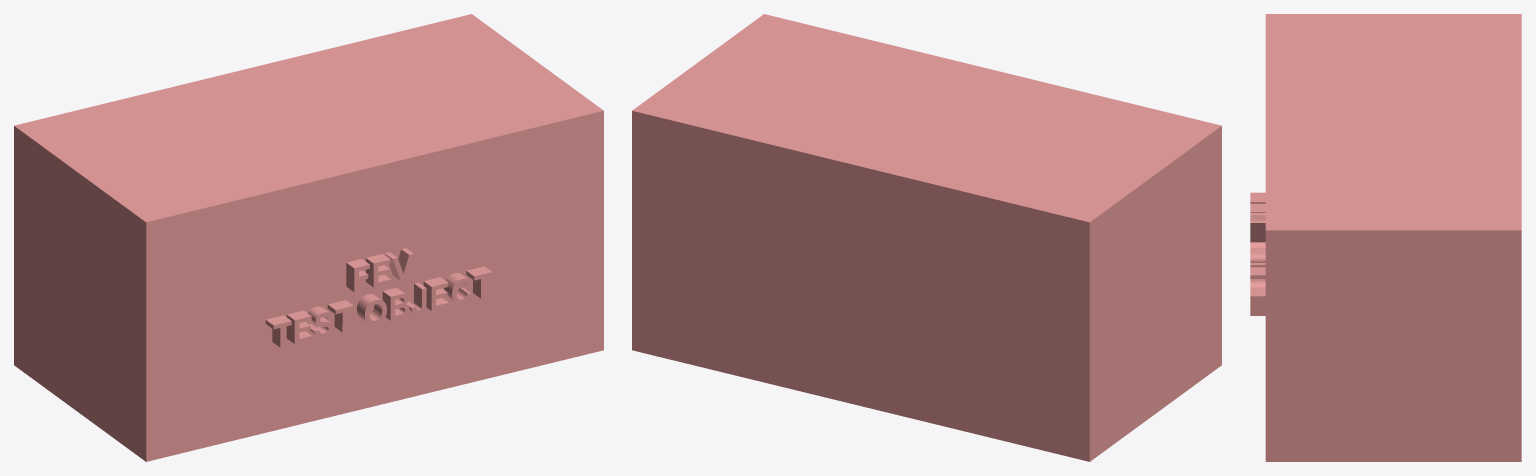
The model's file is testcubev2.gltf.
The picture shows the model from 3 angles, left to right: view 1: azimuth 30°, elevation 25°; view 2: azimuth 150°, elevation 25°; view 3: azimuth 270°, elevation 25°; orthographic projection. The views are drawn at different scales.
Visible parts, largest first — view 1: Body2; view 2: Body2; view 3: Body2.
Part boxes in pixels (left/top/right/bottom): Body2: left=14, top=14, right=603, bottom=461; Body2: left=632, top=14, right=1221, bottom=461; Body2: left=1250, top=14, right=1521, bottom=461.
Size of the model in its own units: 10 by 5 by 5.3.
